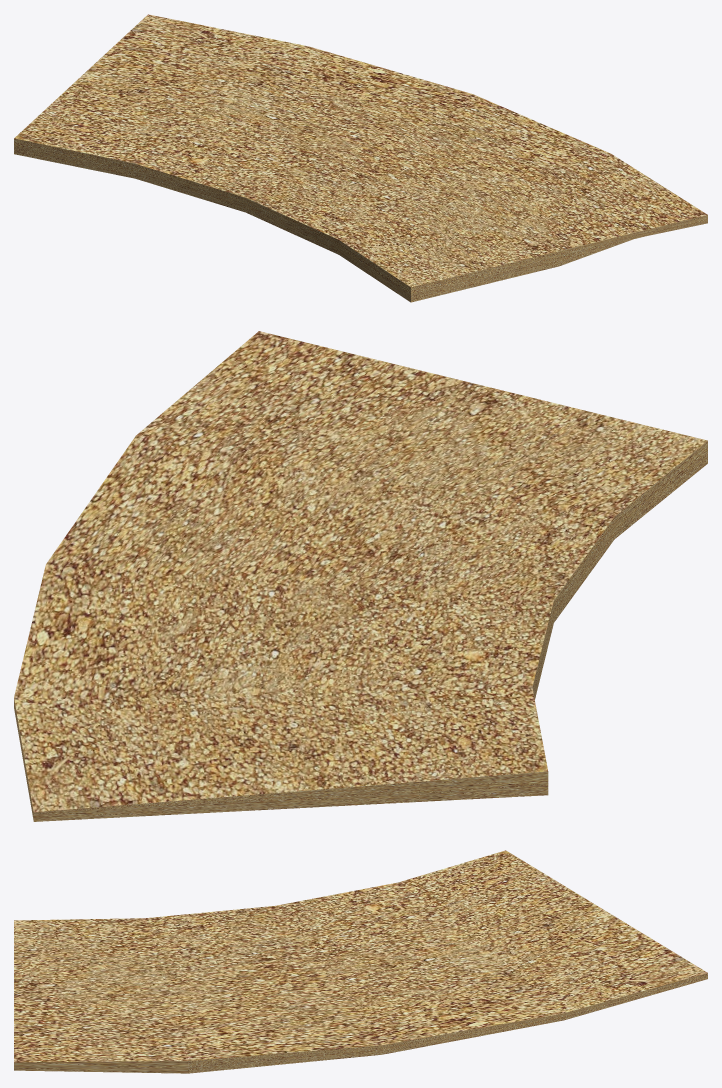
File: 2wayRoad.fbx
The picture shows the model from 3 angles, top to bottom: view 1: azimuth 30°, elevation 25°; view 2: azimuth 150°, elevation 25°; view 3: azimuth 270°, elevation 25°; orthographic projection. The views are drawn at different scales.
Parts seen in each view (by area): view 1: RoadRight; view 2: RoadRight; view 3: RoadRight.
Boxes of the visible parts, left/top/right/bottom form: RoadRight: left=14, top=14, right=707, bottom=302; RoadRight: left=14, top=331, right=707, bottom=821; RoadRight: left=14, top=850, right=707, bottom=1073.
Bounding box in the file's own units: 298 × 10.15 × 413.
1 material, 1 textured.
